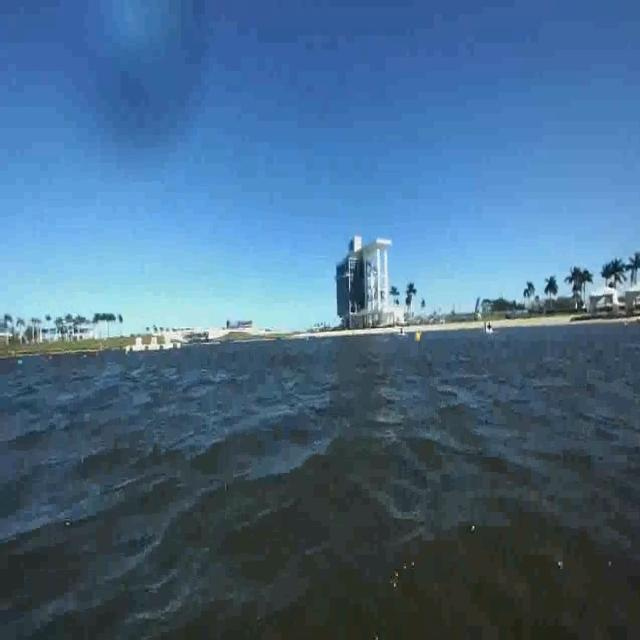yellow-buoy: (415, 331, 422, 345)
